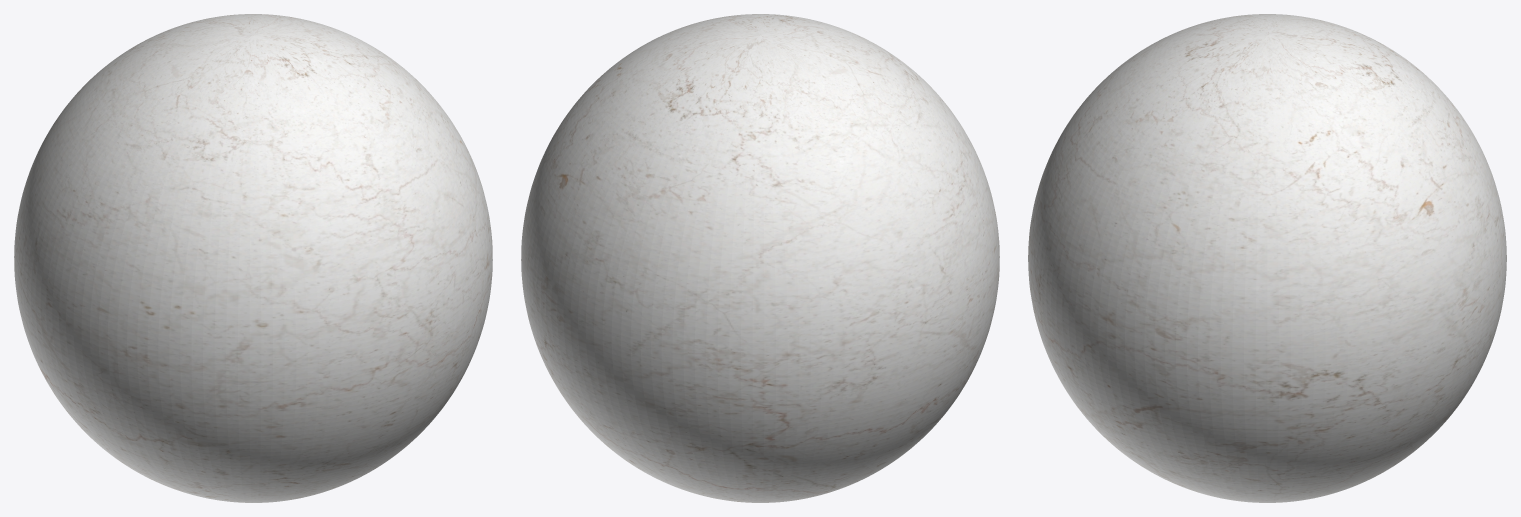
The model's file is ballWhite.fbx.
The picture shows the model from 3 angles, left to right: view 1: azimuth 30°, elevation 25°; view 2: azimuth 150°, elevation 25°; view 3: azimuth 270°, elevation 25°; orthographic projection.
Parts seen in each view (by area): view 1: Sphere.005; view 2: Sphere.005; view 3: Sphere.005.
Part boxes in pixels (x1,y1,x2,y2): Sphere.005: (14,14,492,502); Sphere.005: (521,14,999,502); Sphere.005: (1028,14,1506,502).
Bounding box in the file's own units: 0.2905 × 0.2905 × 0.2987.
1 material, 1 textured.
